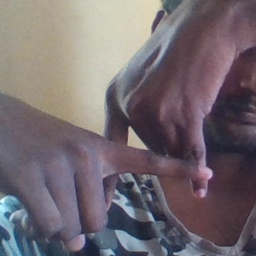H: (79, 86, 219, 210)
